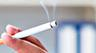smoke: (0, 20, 57, 45)
